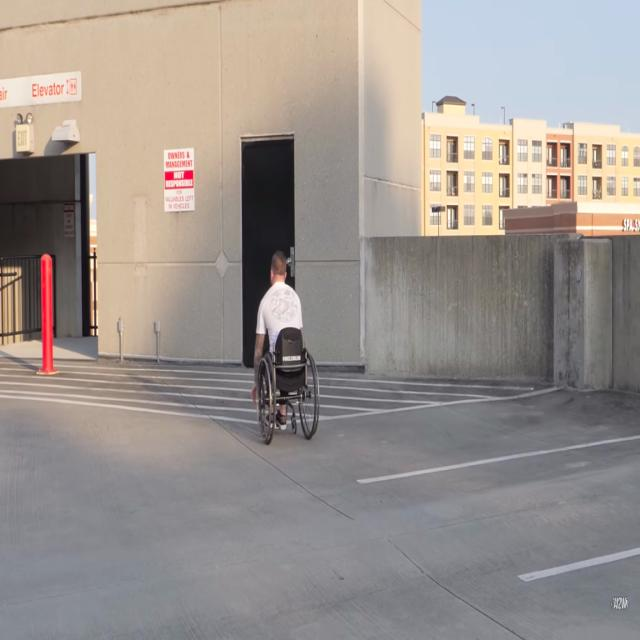wheelchairs: (250, 322, 325, 456)
